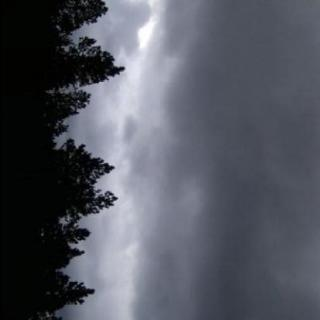Nimbostratus: (118, 0, 320, 320)
